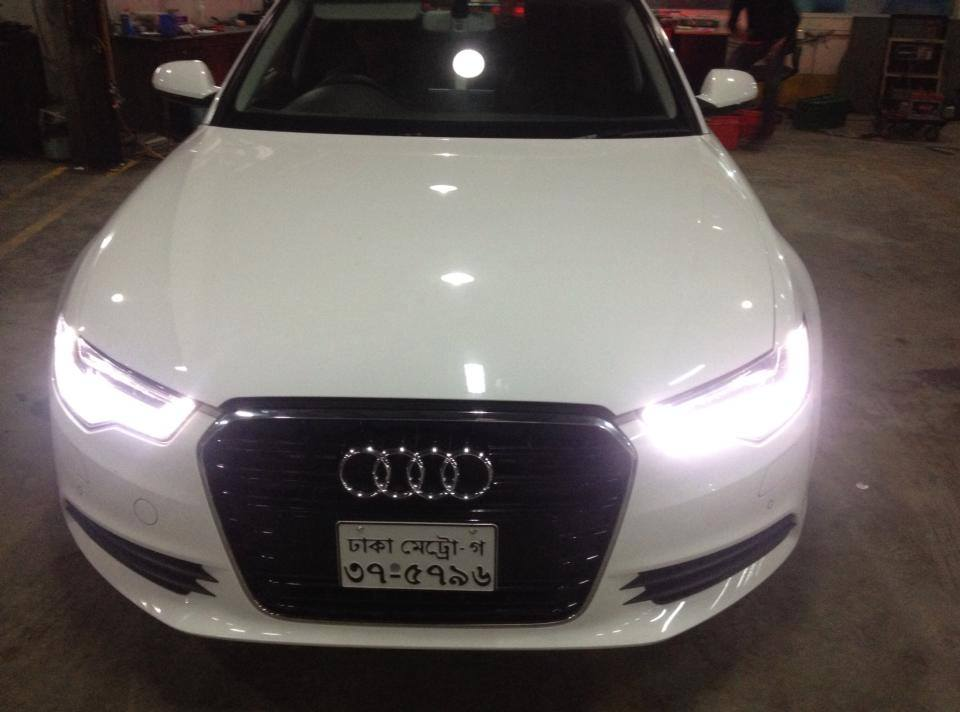registration_plate: (334, 519, 498, 594)
